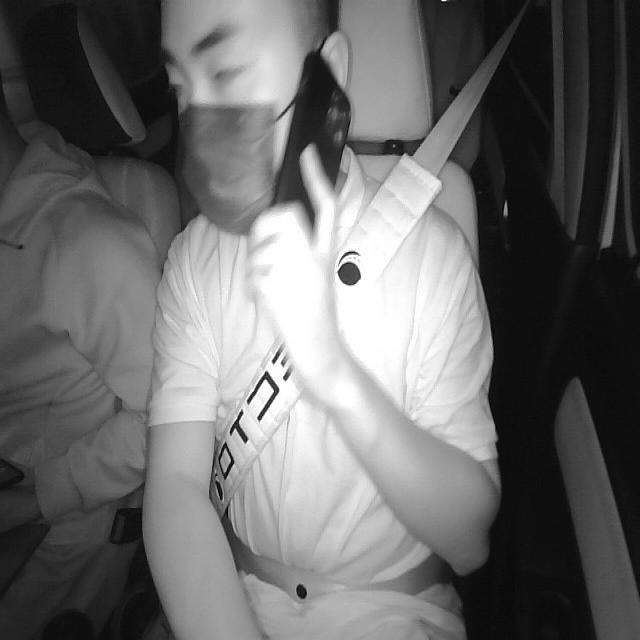phone: (269, 46, 354, 234)
